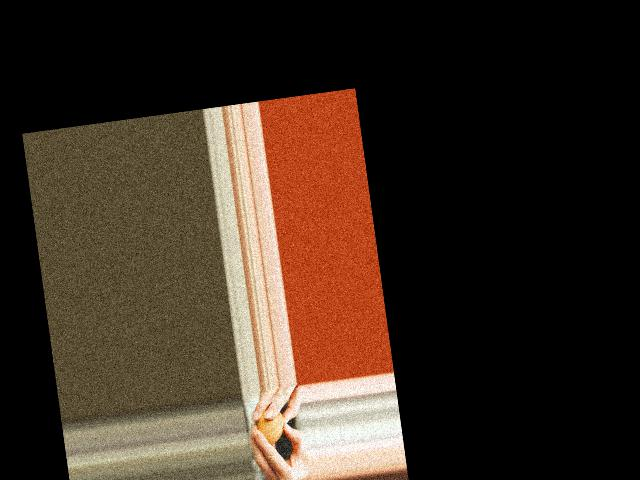egg: (254, 407, 287, 445)
